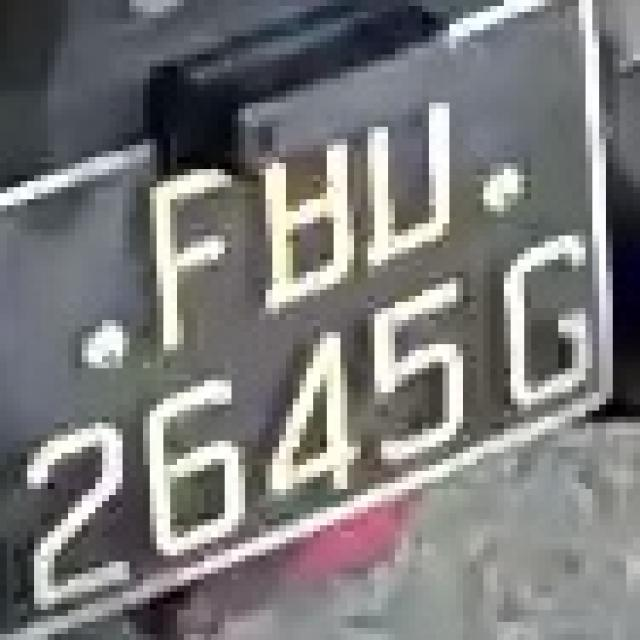2: (34, 404, 143, 610)
4: (252, 332, 381, 501)
5: (347, 272, 490, 453)
6: (136, 374, 259, 562)
B: (252, 127, 368, 308)
D: (368, 90, 470, 278)
F: (122, 121, 252, 356)
G: (477, 218, 599, 416)
